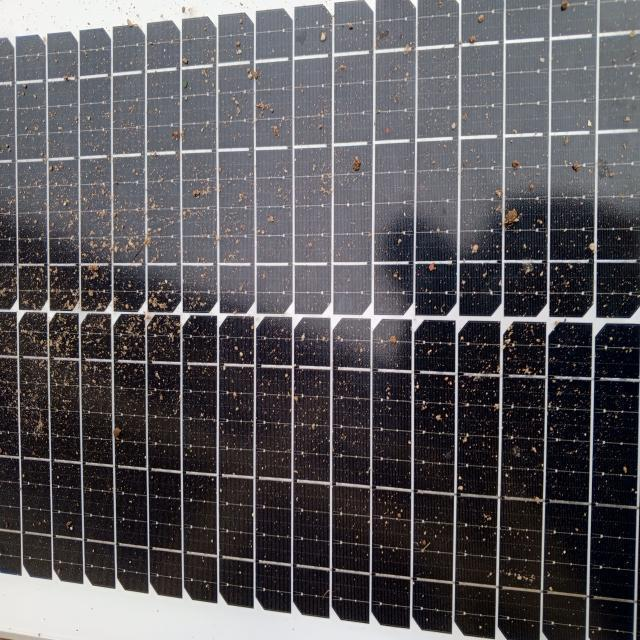Surface Contaminant: (5, 14, 639, 629)
